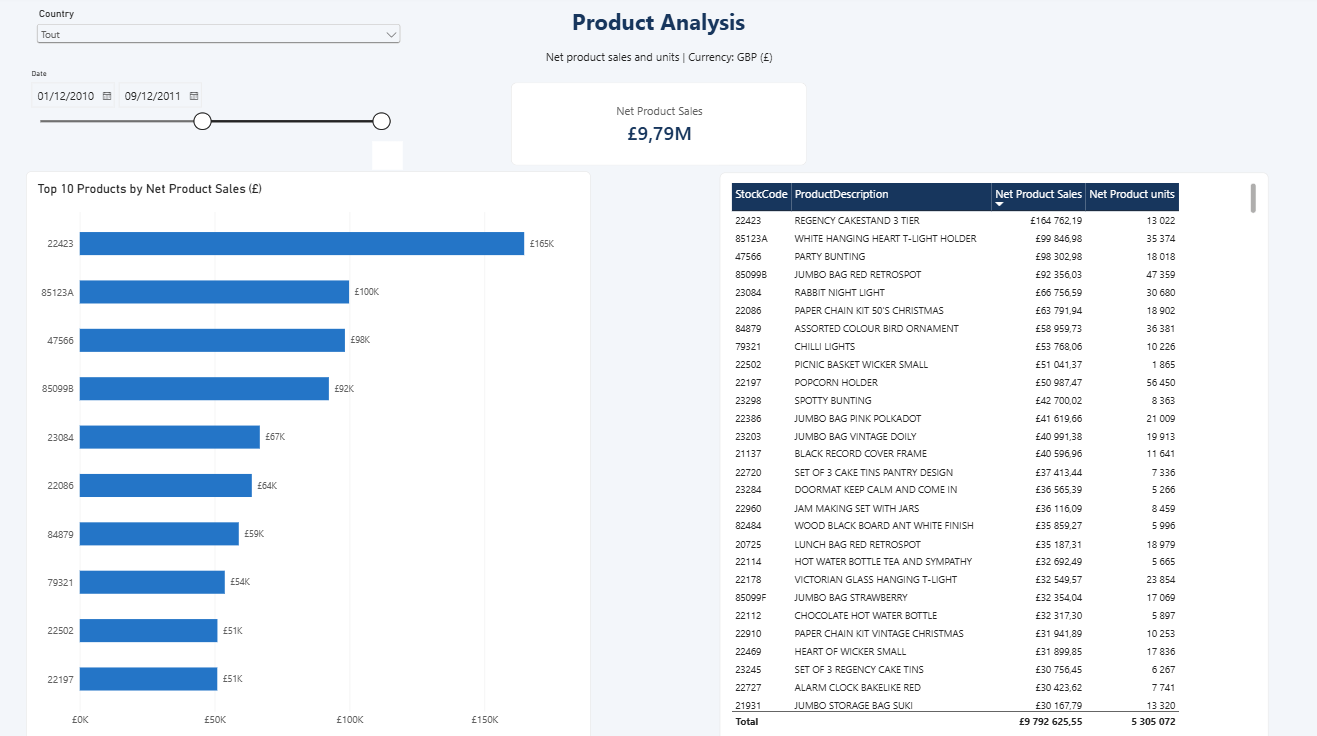

Layout of this report page (visuals, bound fields, positions):
{"tool":"powerbi","page":{"name":"Product Analysis","canvas":[1920,1080],"ordinal":6},"visuals":[{"type":"tableEx","fields":{"Values":["DimProduct.StockCode","DimProduct.ProductDescription","FactTransactions.Net Product Sales","FactTransactions.Net Product units"]},"box":[1047.8,257,794,824],"z":0},{"type":"clusteredBarChart","title":"Top 10 Products by Net Product Sales (£)","fields":{"Category":["DimProduct.StockCode"],"Y":["FactTransactions.Net Product Sales"]},"box":[43.4,255.2,818,825.2],"z":1000},{"type":"slicer","fields":{"Values":["DimCountry.Country"]},"box":[54,18,536,192],"z":2000},{"type":"slicer","fields":{"Values":["DimDate.Date"]},"box":[44,106,546,104],"z":3000},{"type":"cardVisual","fields":{"Data":["FactTransactions.Net Product Sales"]},"box":[746,126,428,120],"z":4000},{"type":"textbox","box":[378,16,1162,62],"z":5000},{"type":"textbox","box":[474,78,972,48],"z":6000}]}

Visuals, with their boxes in screenshot pixels (x1, y1, x2, y2), scaled from the page's 1920x1080 canvas onto the 1317x736 screenshot:
tableEx - DimProduct.StockCode x DimProduct.ProductDescription: left=719, top=175, right=1263, bottom=735
"Top 10 Products by Net Product Sales (£)" clusteredBarChart: left=30, top=174, right=591, bottom=735
slicer - DimCountry.Country: left=37, top=12, right=405, bottom=143
slicer - DimDate.Date: left=30, top=72, right=405, bottom=143
cardVisual - FactTransactions.Net Product Sales: left=512, top=86, right=805, bottom=168
textbox: left=259, top=11, right=1056, bottom=53
textbox: left=325, top=53, right=992, bottom=86
